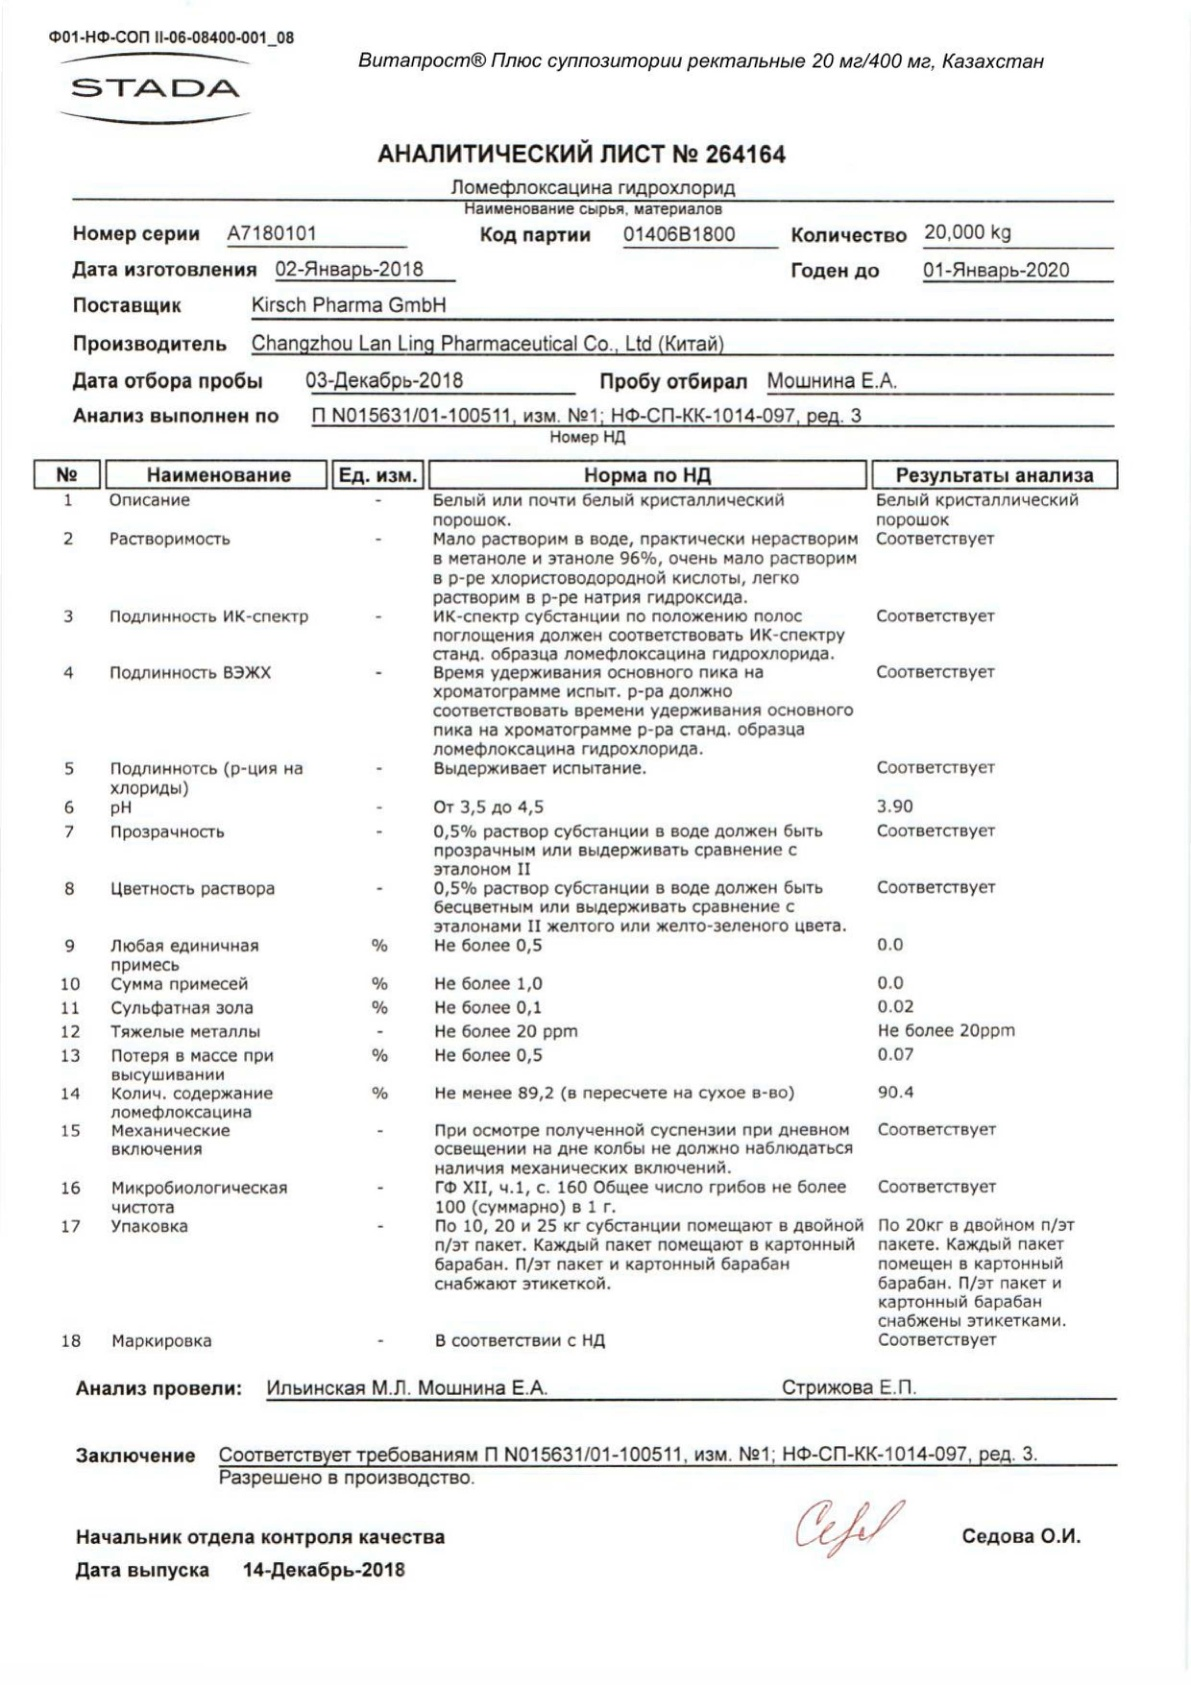partial_lined: (34, 456, 1118, 1364)
